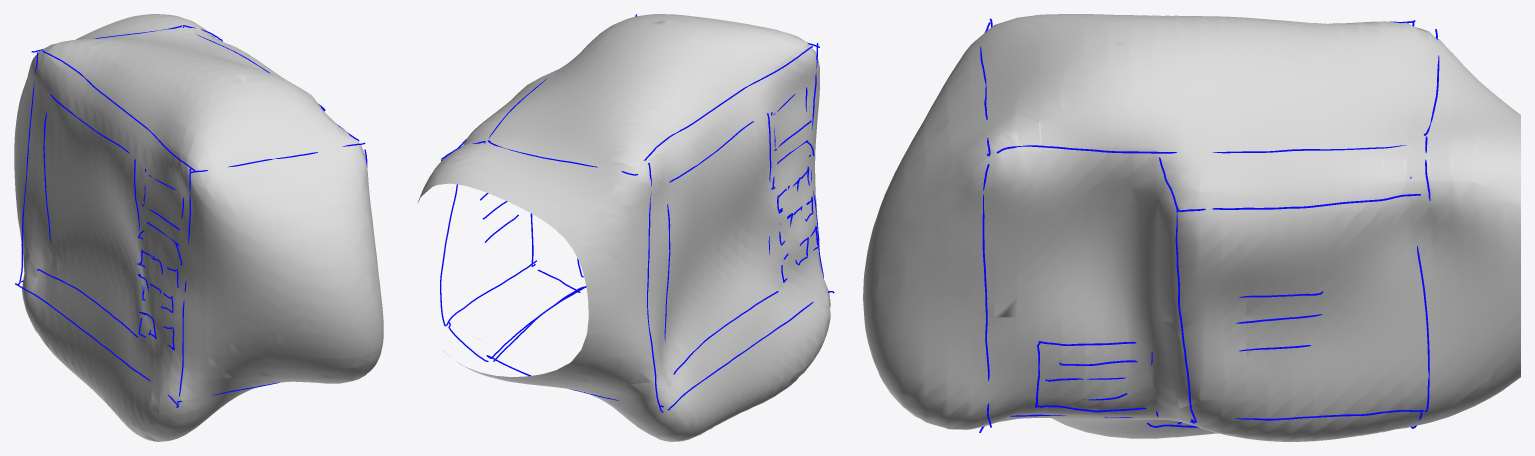
The model's file is scaffold_sketch_P5_open_sketch_proxy.glb.
The picture shows the model from 3 angles, left to right: view 1: azimuth 30°, elevation 25°; view 2: azimuth 150°, elevation 25°; view 3: azimuth 270°, elevation 25°; orthographic projection. The views are drawn at different scales.
Visible parts, largest first — view 1: scaffold_sketch_P5_open_surface, scaffold_sketch_P5_open; view 2: scaffold_sketch_P5_open_surface, scaffold_sketch_P5_open; view 3: scaffold_sketch_P5_open_surface, scaffold_sketch_P5_open.
Boxes of the visible parts, bbox=[...] form: scaffold_sketch_P5_open_surface: bbox=[14, 14, 383, 441]; scaffold_sketch_P5_open: bbox=[15, 25, 367, 407]; scaffold_sketch_P5_open_surface: bbox=[417, 14, 830, 441]; scaffold_sketch_P5_open: bbox=[440, 14, 834, 412]; scaffold_sketch_P5_open_surface: bbox=[863, 14, 1520, 441]; scaffold_sketch_P5_open: bbox=[979, 18, 1439, 432].
Bounding box in the file's own units: 0.8041 × 1.09 × 1.43.
